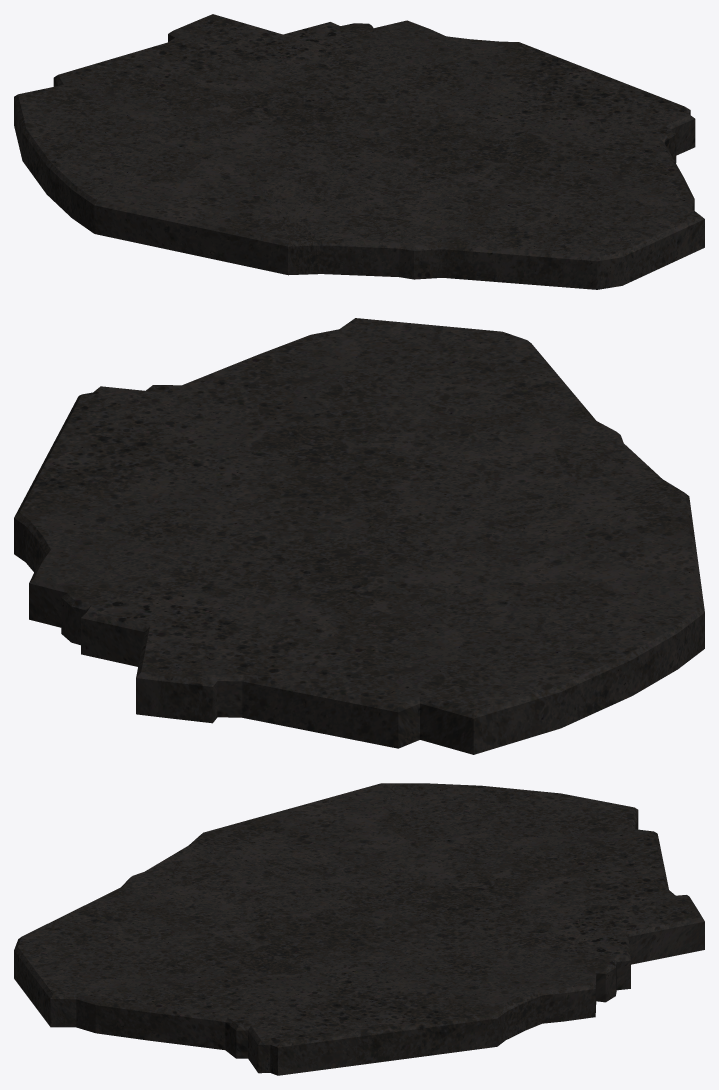
Rendered from FloorDmg03.fbx.
3 views of the same model, one above another, from view 1: azimuth 30°, elevation 25°; view 2: azimuth 150°, elevation 25°; view 3: azimuth 270°, elevation 25° (orthographic). The views are drawn at different scales.
Visible parts, largest first — view 1: SM_ENV_NATURE_Cave_Floor_Dmg_03.mo; view 2: SM_ENV_NATURE_Cave_Floor_Dmg_03.mo; view 3: SM_ENV_NATURE_Cave_Floor_Dmg_03.mo.
Part boxes in pixels (x1,y1,x2,y2): SM_ENV_NATURE_Cave_Floor_Dmg_03.mo: (14, 14, 704, 289); SM_ENV_NATURE_Cave_Floor_Dmg_03.mo: (14, 318, 704, 754); SM_ENV_NATURE_Cave_Floor_Dmg_03.mo: (14, 783, 704, 1075).
Bounding box in the file's own units: 534 × 30 × 594.
1 material, 1 textured.
